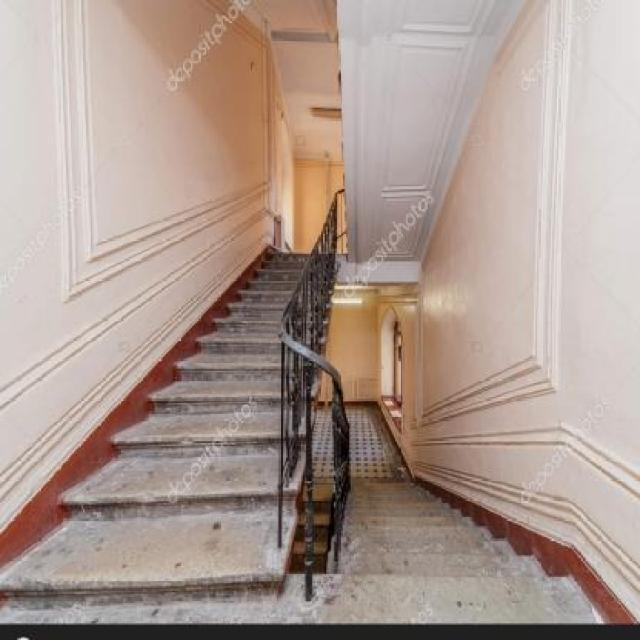stair: (0, 120, 622, 614)
